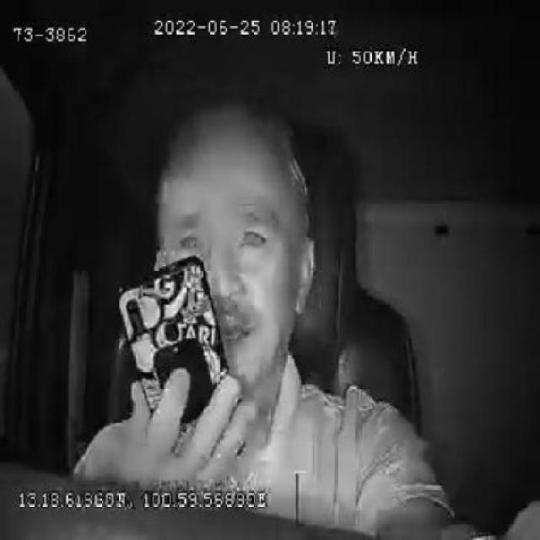phone: (116, 251, 229, 419)
